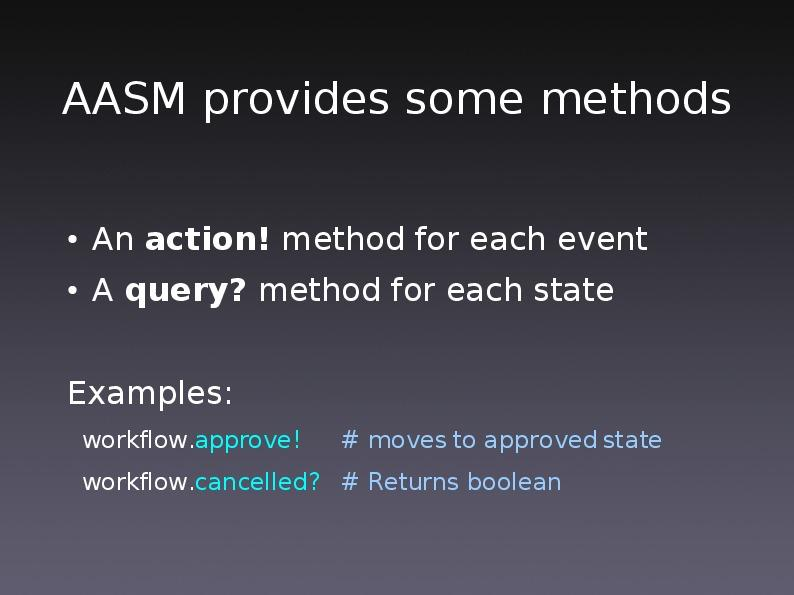paragraph: (59, 213, 683, 514)
title: (59, 67, 737, 127)
